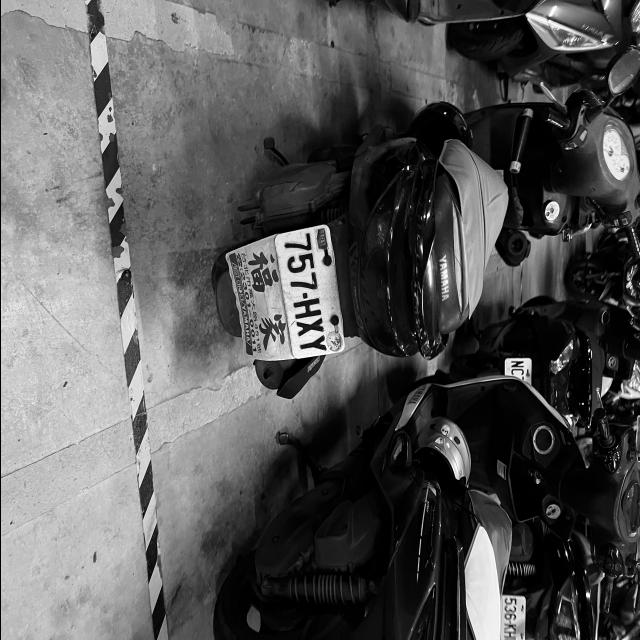-: (302, 292, 308, 300), (508, 620, 510, 624)
3: (503, 606, 516, 612)
5: (285, 251, 315, 278), (503, 598, 517, 606)
6: (503, 612, 516, 620)
7: (283, 232, 312, 253), (288, 272, 318, 292)
C: (509, 368, 524, 376)
H: (291, 296, 322, 320), (502, 631, 516, 640)
K: (502, 624, 516, 632)
N: (510, 361, 524, 367)
X: (294, 316, 324, 339)
Y: (297, 335, 326, 354)
plate: (278, 226, 339, 361)
